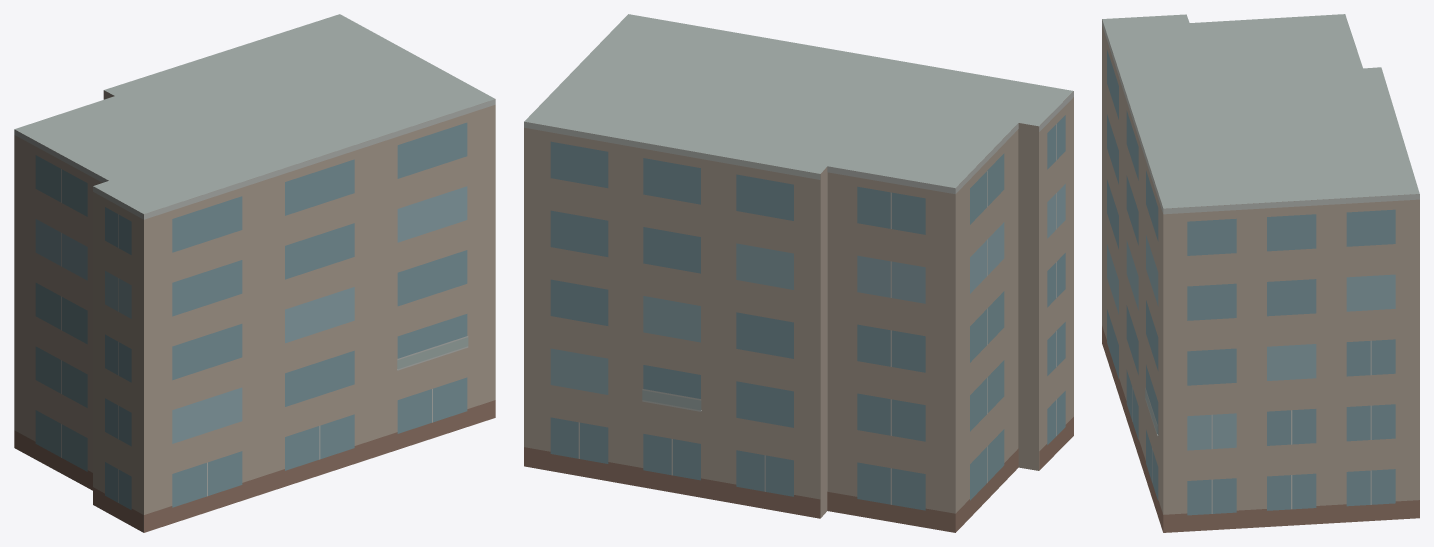
File: survey-upis-32494524.glb
The picture shows the model from 3 angles, left to right: view 1: azimuth 30°, elevation 25°; view 2: azimuth 150°, elevation 25°; view 3: azimuth 270°, elevation 25°; orthographic projection. The views are drawn at different scales.
Visible parts, largest first — view 1: survey-upis-32494524.tmp; view 2: survey-upis-32494524.tmp; view 3: survey-upis-32494524.tmp.
Part boxes in pixels (x1=…): survey-upis-32494524.tmp: x1=14, y1=14, x2=495, y2=532; survey-upis-32494524.tmp: x1=524, y1=14, x2=1073, y2=532; survey-upis-32494524.tmp: x1=1102, y1=14, x2=1419, y2=532.
Bounding box in the file's own units: 17.85 × 13.86 × 12.32.
